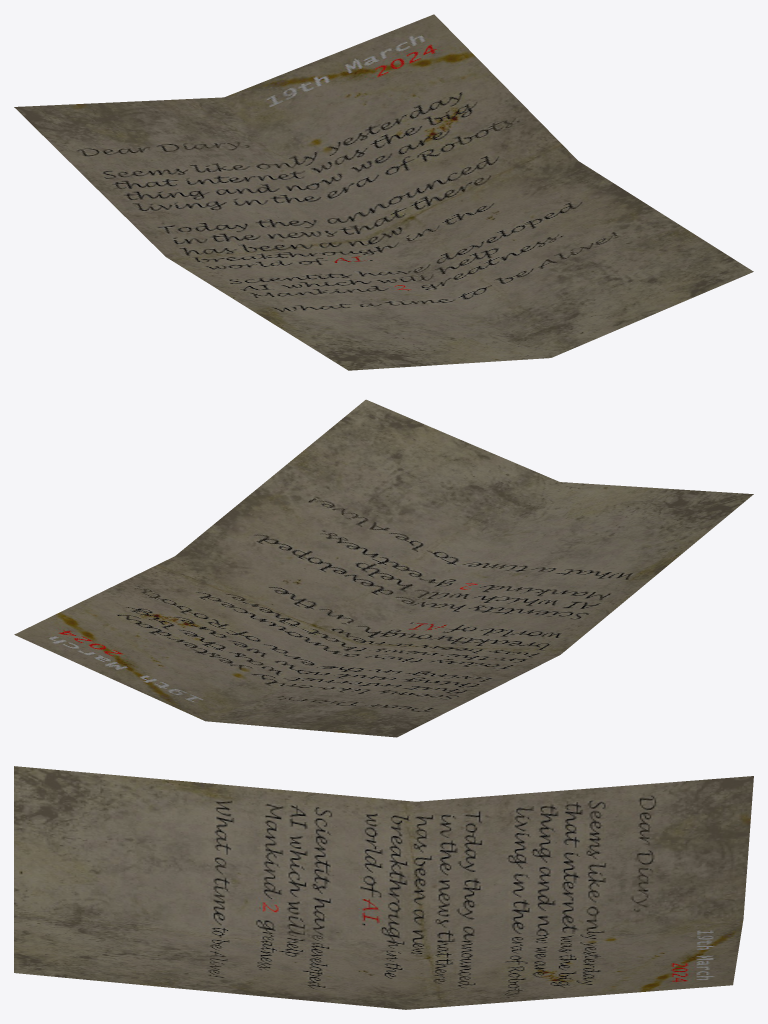
Rendered from Note1.FBX.
3 views of the same model, one above another, from view 1: azimuth 30°, elevation 25°; view 2: azimuth 150°, elevation 25°; view 3: azimuth 270°, elevation 25° (orthographic). The views are drawn at different scales.
Visible parts, largest first — view 1: Note1; view 2: Note1; view 3: Note1.
Part boxes in pixels (x1,y1,x2,y2): Note1: (14,14,753,370); Note1: (14,399,753,737); Note1: (14,766,753,1009).
Bounding box in the file's own units: 26.76 × 3.94 × 38.19.
